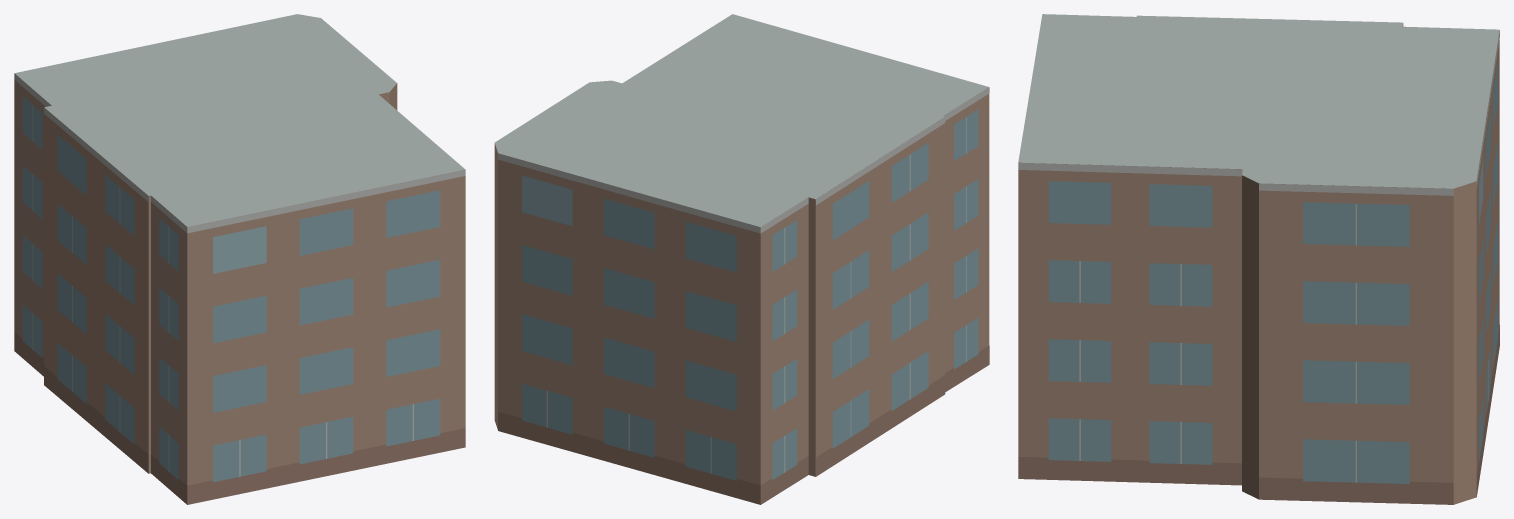
Rendered from survey-upis-33039406.glb.
3 renders of one model, left to right at view 1: azimuth 30°, elevation 25°; view 2: azimuth 150°, elevation 25°; view 3: azimuth 270°, elevation 25°, orthographic. The views are drawn at different scales.
Visible parts, largest first — view 1: survey-upis-33039406.tmp; view 2: survey-upis-33039406.tmp; view 3: survey-upis-33039406.tmp.
Boxes of the visible parts, <box> form: survey-upis-33039406.tmp: <box>14,14,465,504</box>; survey-upis-33039406.tmp: <box>494,14,989,504</box>; survey-upis-33039406.tmp: <box>1018,14,1499,504</box>.
Bounding box in the file's own units: 12.68 × 10.7 × 14.78.
